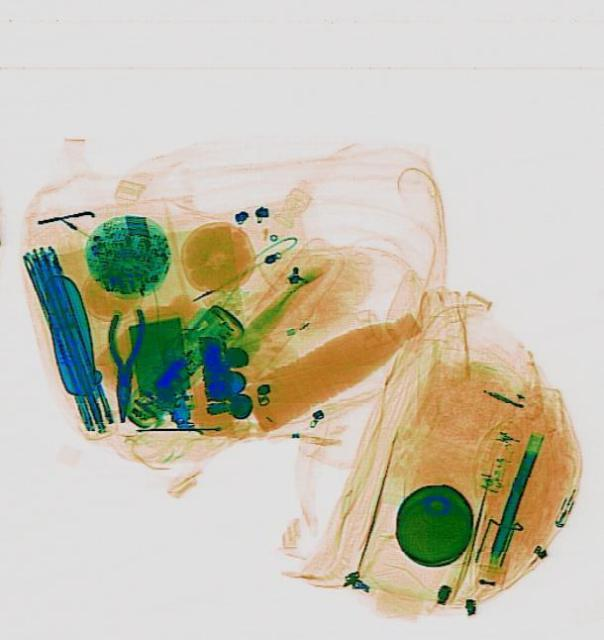Pliers: (102, 306, 144, 420)
